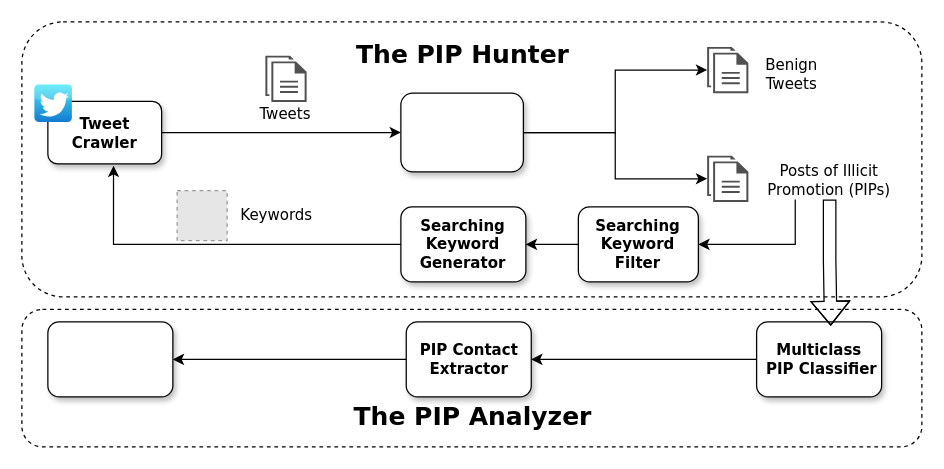
Some shapes in this 944 by 469 pixel diagram are drawn without their labels. Grey dashed boxes stand in for pictures. The shapes that lost their labels are listed below. From the top down, each one's centre as x and y in pixels, then its label:
At (463,134): "Binary PIP Classifier".
At (111,361): "PIP Cluster Analyzer".
